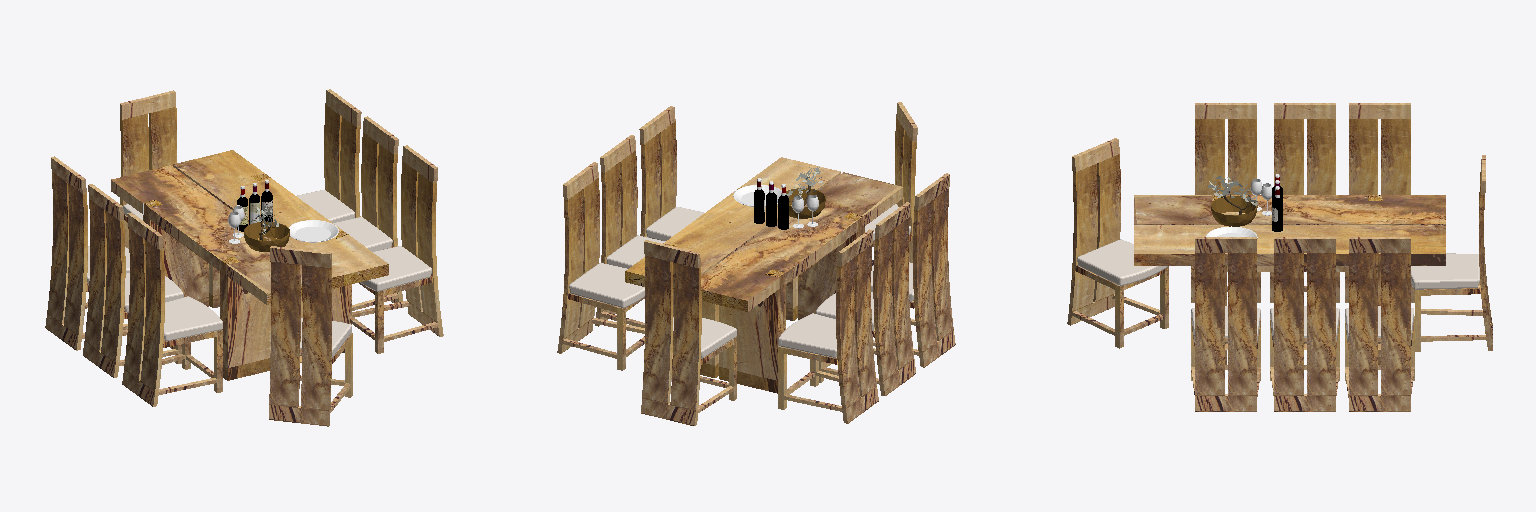
The picture shows the model from 3 angles: view 1: azimuth 30°, elevation 25°; view 2: azimuth 150°, elevation 25°; view 3: azimuth 270°, elevation 25°; orthographic projection.
Parts seen in each view (by area): view 1: Mesh40_din_tbl1_ty1_Group1_Model, Mesh41_din_tbl1_ty1_Group1_Model, Mesh38_footer3_ty1_Group1_Model, Mesh21_rest1_4_din_chr2_Group1_Model, Mesh14_rest1_3_din_chr2_Group1_Model, Mesh84_rest1_11_din_chr6_Group1_Model, Mesh106_rest1_15_din_chr8_Group1_Model, Mesh3_rest1_1_din_chr1_Group1_Model, Mesh10_rest1_2_din_chr1_Group1_Model, Mesh113_rest1_16_din_chr8_Group1_Model, Mesh91_rest1_12_din_chr6_Group1_Model, Mesh39_footer4_ty1_Group1_Model (+28 smaller); view 2: Mesh40_din_tbl1_ty1_Group1_Model, Mesh41_din_tbl1_ty1_Group1_Model, Mesh39_footer4_ty1_Group1_Model, Mesh102_rest1_14_din_chr7_Group1_Model, Mesh95_rest1_13_din_chr7_Group1_Model, Mesh113_rest1_16_din_chr8_Group1_Model, Mesh91_rest1_12_din_chr6_Group1_Model, Mesh10_rest1_2_din_chr1_Group1_Model, Mesh3_rest1_1_din_chr1_Group1_Model, Mesh84_rest1_11_din_chr6_Group1_Model, Mesh106_rest1_15_din_chr8_Group1_Model, Mesh51_rest1_8_din_chr4_Group1_Model (+28 smaller); view 3: Mesh40_din_tbl1_ty1_Group1_Model, Mesh41_din_tbl1_ty1_Group1_Model, Mesh25_rest1_5_din_chr3_Group1_Model, Mesh55_rest1_9_din_chr5_Group1_Model, Mesh51_rest1_8_din_chr4_Group1_Model, Mesh62_rest1_10_din_chr5_Group1_Model, Mesh44_rest1_7_din_chr4_Group1_Model, Mesh32_rest1_6_din_chr3_Group1_Model, Mesh21_rest1_4_din_chr2_Group1_Model, Mesh91_rest1_12_din_chr6_Group1_Model, Mesh14_rest1_3_din_chr2_Group1_Model, Mesh84_rest1_11_din_chr6_Group1_Model (+19 smaller).
Boxes of the visible parts, x1,y1,x2,y2 form: Mesh40_din_tbl1_ty1_Group1_Model: [111, 165, 301, 304]; Mesh41_din_tbl1_ty1_Group1_Model: [173, 150, 388, 288]; Mesh38_footer3_ty1_Group1_Model: [220, 256, 270, 380]; Mesh21_rest1_4_din_chr2_Group1_Model: [301, 265, 331, 411]; Mesh14_rest1_3_din_chr2_Group1_Model: [269, 261, 300, 407]; Mesh84_rest1_11_din_chr6_Group1_Model: [64, 184, 87, 335]; Mesh106_rest1_15_din_chr8_Group1_Model: [140, 240, 164, 391]; Mesh3_rest1_1_din_chr1_Group1_Model: [101, 211, 125, 363]; Mesh10_rest1_2_din_chr1_Group1_Model: [85, 199, 106, 351]; Mesh113_rest1_16_din_chr8_Group1_Model: [124, 227, 145, 379]; Mesh91_rest1_12_din_chr6_Group1_Model: [47, 172, 68, 323]; Mesh39_footer4_ty1_Group1_Model: [143, 199, 208, 306]; Mesh40_din_tbl1_ty1_Group1_Model: [701, 172, 902, 311]; Mesh41_din_tbl1_ty1_Group1_Model: [625, 157, 840, 293]; Mesh39_footer4_ty1_Group1_Model: [719, 269, 785, 393]; Mesh102_rest1_14_din_chr7_Group1_Model: [642, 256, 672, 404]; Mesh95_rest1_13_din_chr7_Group1_Model: [670, 262, 701, 411]; Mesh113_rest1_16_din_chr8_Group1_Model: [913, 200, 936, 352]; Mesh91_rest1_12_din_chr6_Group1_Model: [836, 257, 860, 408]; Mesh10_rest1_2_din_chr1_Group1_Model: [873, 229, 897, 381]; Mesh3_rest1_1_din_chr1_Group1_Model: [892, 217, 913, 369]; Mesh84_rest1_11_din_chr6_Group1_Model: [855, 244, 876, 396]; Mesh106_rest1_15_din_chr8_Group1_Model: [932, 189, 953, 340]; Mesh51_rest1_8_din_chr4_Group1_Model: [559, 190, 583, 339]; Mesh40_din_tbl1_ty1_Group1_Model: [1134, 195, 1445, 224]; Mesh41_din_tbl1_ty1_Group1_Model: [1134, 225, 1445, 265]; Mesh25_rest1_5_din_chr3_Group1_Model: [1195, 253, 1224, 395]; Mesh55_rest1_9_din_chr5_Group1_Model: [1274, 253, 1303, 395]; Mesh51_rest1_8_din_chr4_Group1_Model: [1381, 253, 1410, 395]; Mesh62_rest1_10_din_chr5_Group1_Model: [1307, 253, 1335, 395]; Mesh44_rest1_7_din_chr4_Group1_Model: [1349, 253, 1377, 395]; Mesh32_rest1_6_din_chr3_Group1_Model: [1228, 253, 1256, 395]; Mesh21_rest1_4_din_chr2_Group1_Model: [1069, 164, 1097, 311]; Mesh91_rest1_12_din_chr6_Group1_Model: [1381, 119, 1410, 194]; Mesh14_rest1_3_din_chr2_Group1_Model: [1093, 154, 1120, 301]; Mesh84_rest1_11_din_chr6_Group1_Model: [1349, 119, 1377, 194].
Bounding box in the file's own units: 35.32 × 19.72 × 44.78.
22 materials, 7 textured.